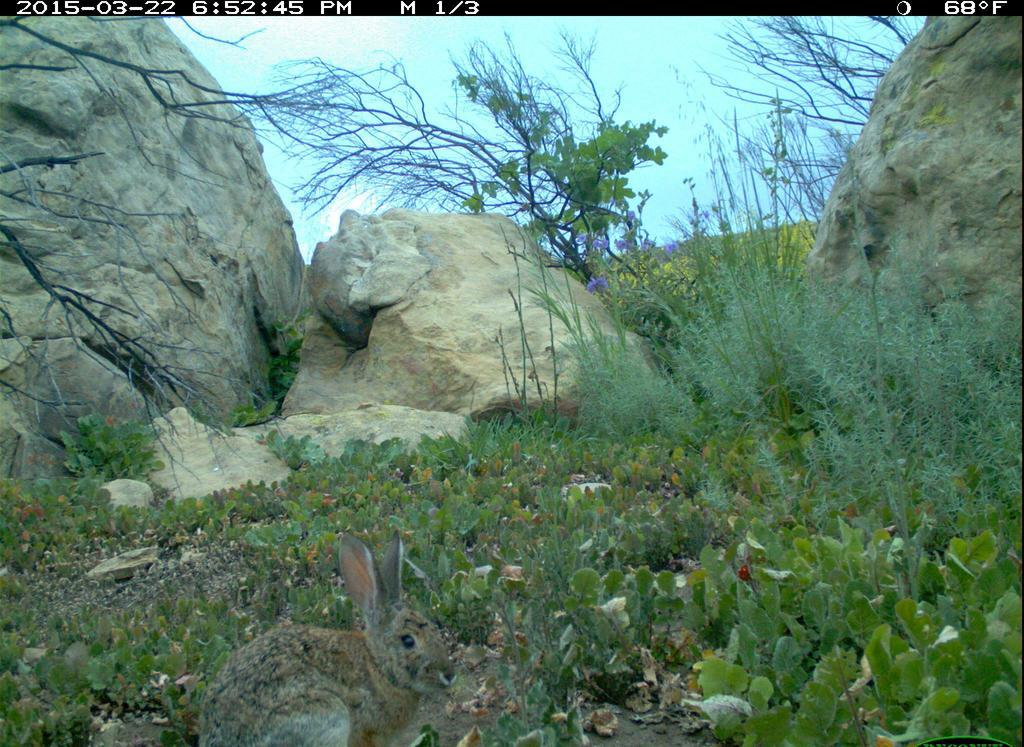rabbit: (178, 521, 487, 745)
